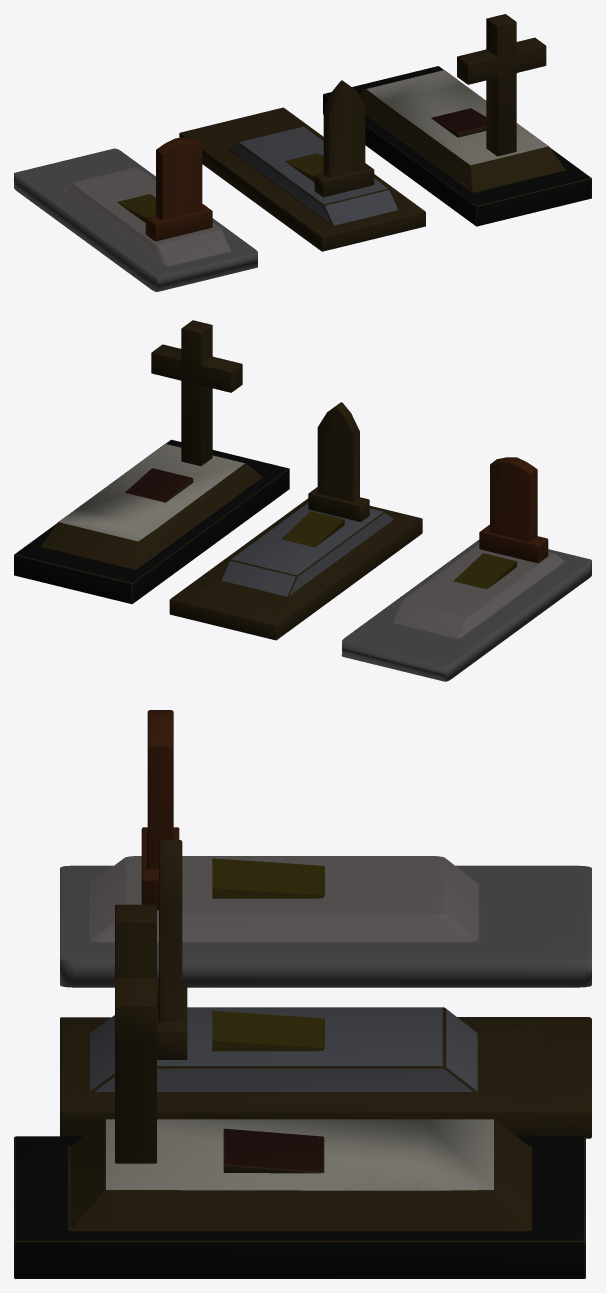
Rendered from mezarlk.fbx.
The picture shows the model from 3 angles, top to bottom: view 1: azimuth 30°, elevation 25°; view 2: azimuth 150°, elevation 25°; view 3: azimuth 270°, elevation 25°; orthographic projection. The views are drawn at different scales.
Parts seen in each view (by area): view 1: Cube, Cube.005, Cube.004, Cube.002, Cube.001, Cube.006, Cube.003; view 2: Cube, Cube.005, Cube.004, Cube.002, Cube.001, Cube.006, Cube.003; view 3: Cube, Cube.005, Cube.004, Cube.001, Cube.002, Cube.003, Cube.006.
Part boxes in pixels (x1,y1,x2,y2): Cube: (323, 14, 591, 226); Cube.005: (14, 148, 257, 291); Cube.004: (179, 107, 425, 251); Cube.002: (145, 138, 212, 241); Cube.001: (314, 80, 374, 197); Cube.006: (117, 194, 155, 222); Cube.003: (285, 153, 323, 182); Cube: (14, 320, 289, 604); Cube.005: (341, 540, 591, 681); Cube.004: (169, 498, 422, 640); Cube.002: (479, 457, 548, 563); Cube.001: (308, 402, 369, 521); Cube.006: (453, 553, 516, 589); Cube.003: (281, 511, 344, 547); Cube: (14, 904, 585, 1278); Cube.005: (60, 856, 591, 987); Cube.004: (60, 1007, 591, 1138); Cube.001: (157, 840, 187, 1059); Cube.002: (141, 710, 179, 910); Cube.003: (212, 1011, 324, 1051); Cube.006: (212, 858, 324, 898).
Bounding box in the file's own units: 1629 × 618 × 1032.
